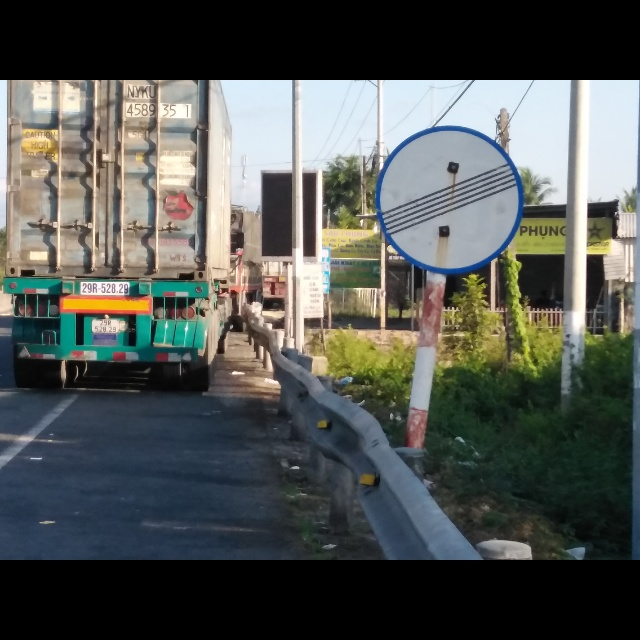Hết tất cả các lệnh cấm: (368, 123, 526, 274)
